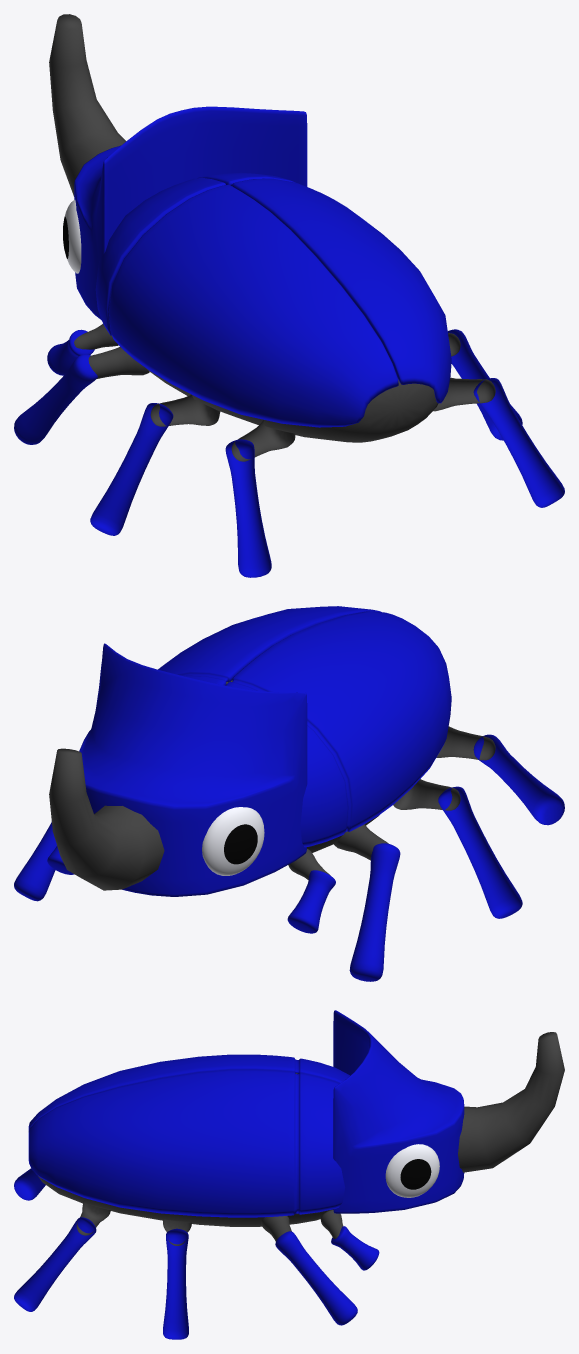
Rendered from Enemy_stage_02.fbx.
3 renders of one model, top to bottom at view 1: azimuth 30°, elevation 25°; view 2: azimuth 150°, elevation 25°; view 3: azimuth 270°, elevation 25°, orthographic. The views are drawn at different scales.
Visible parts, largest first — view 1: Tower Stage 02; view 2: Tower Stage 02; view 3: Tower Stage 02.
Boxes of the visible parts, x1,y1,x2,y2 form: Tower Stage 02: (14, 14, 564, 577); Tower Stage 02: (14, 606, 564, 981); Tower Stage 02: (14, 1010, 564, 1339).
Bounding box in the file's own units: 99.99 × 65.72 × 142.
